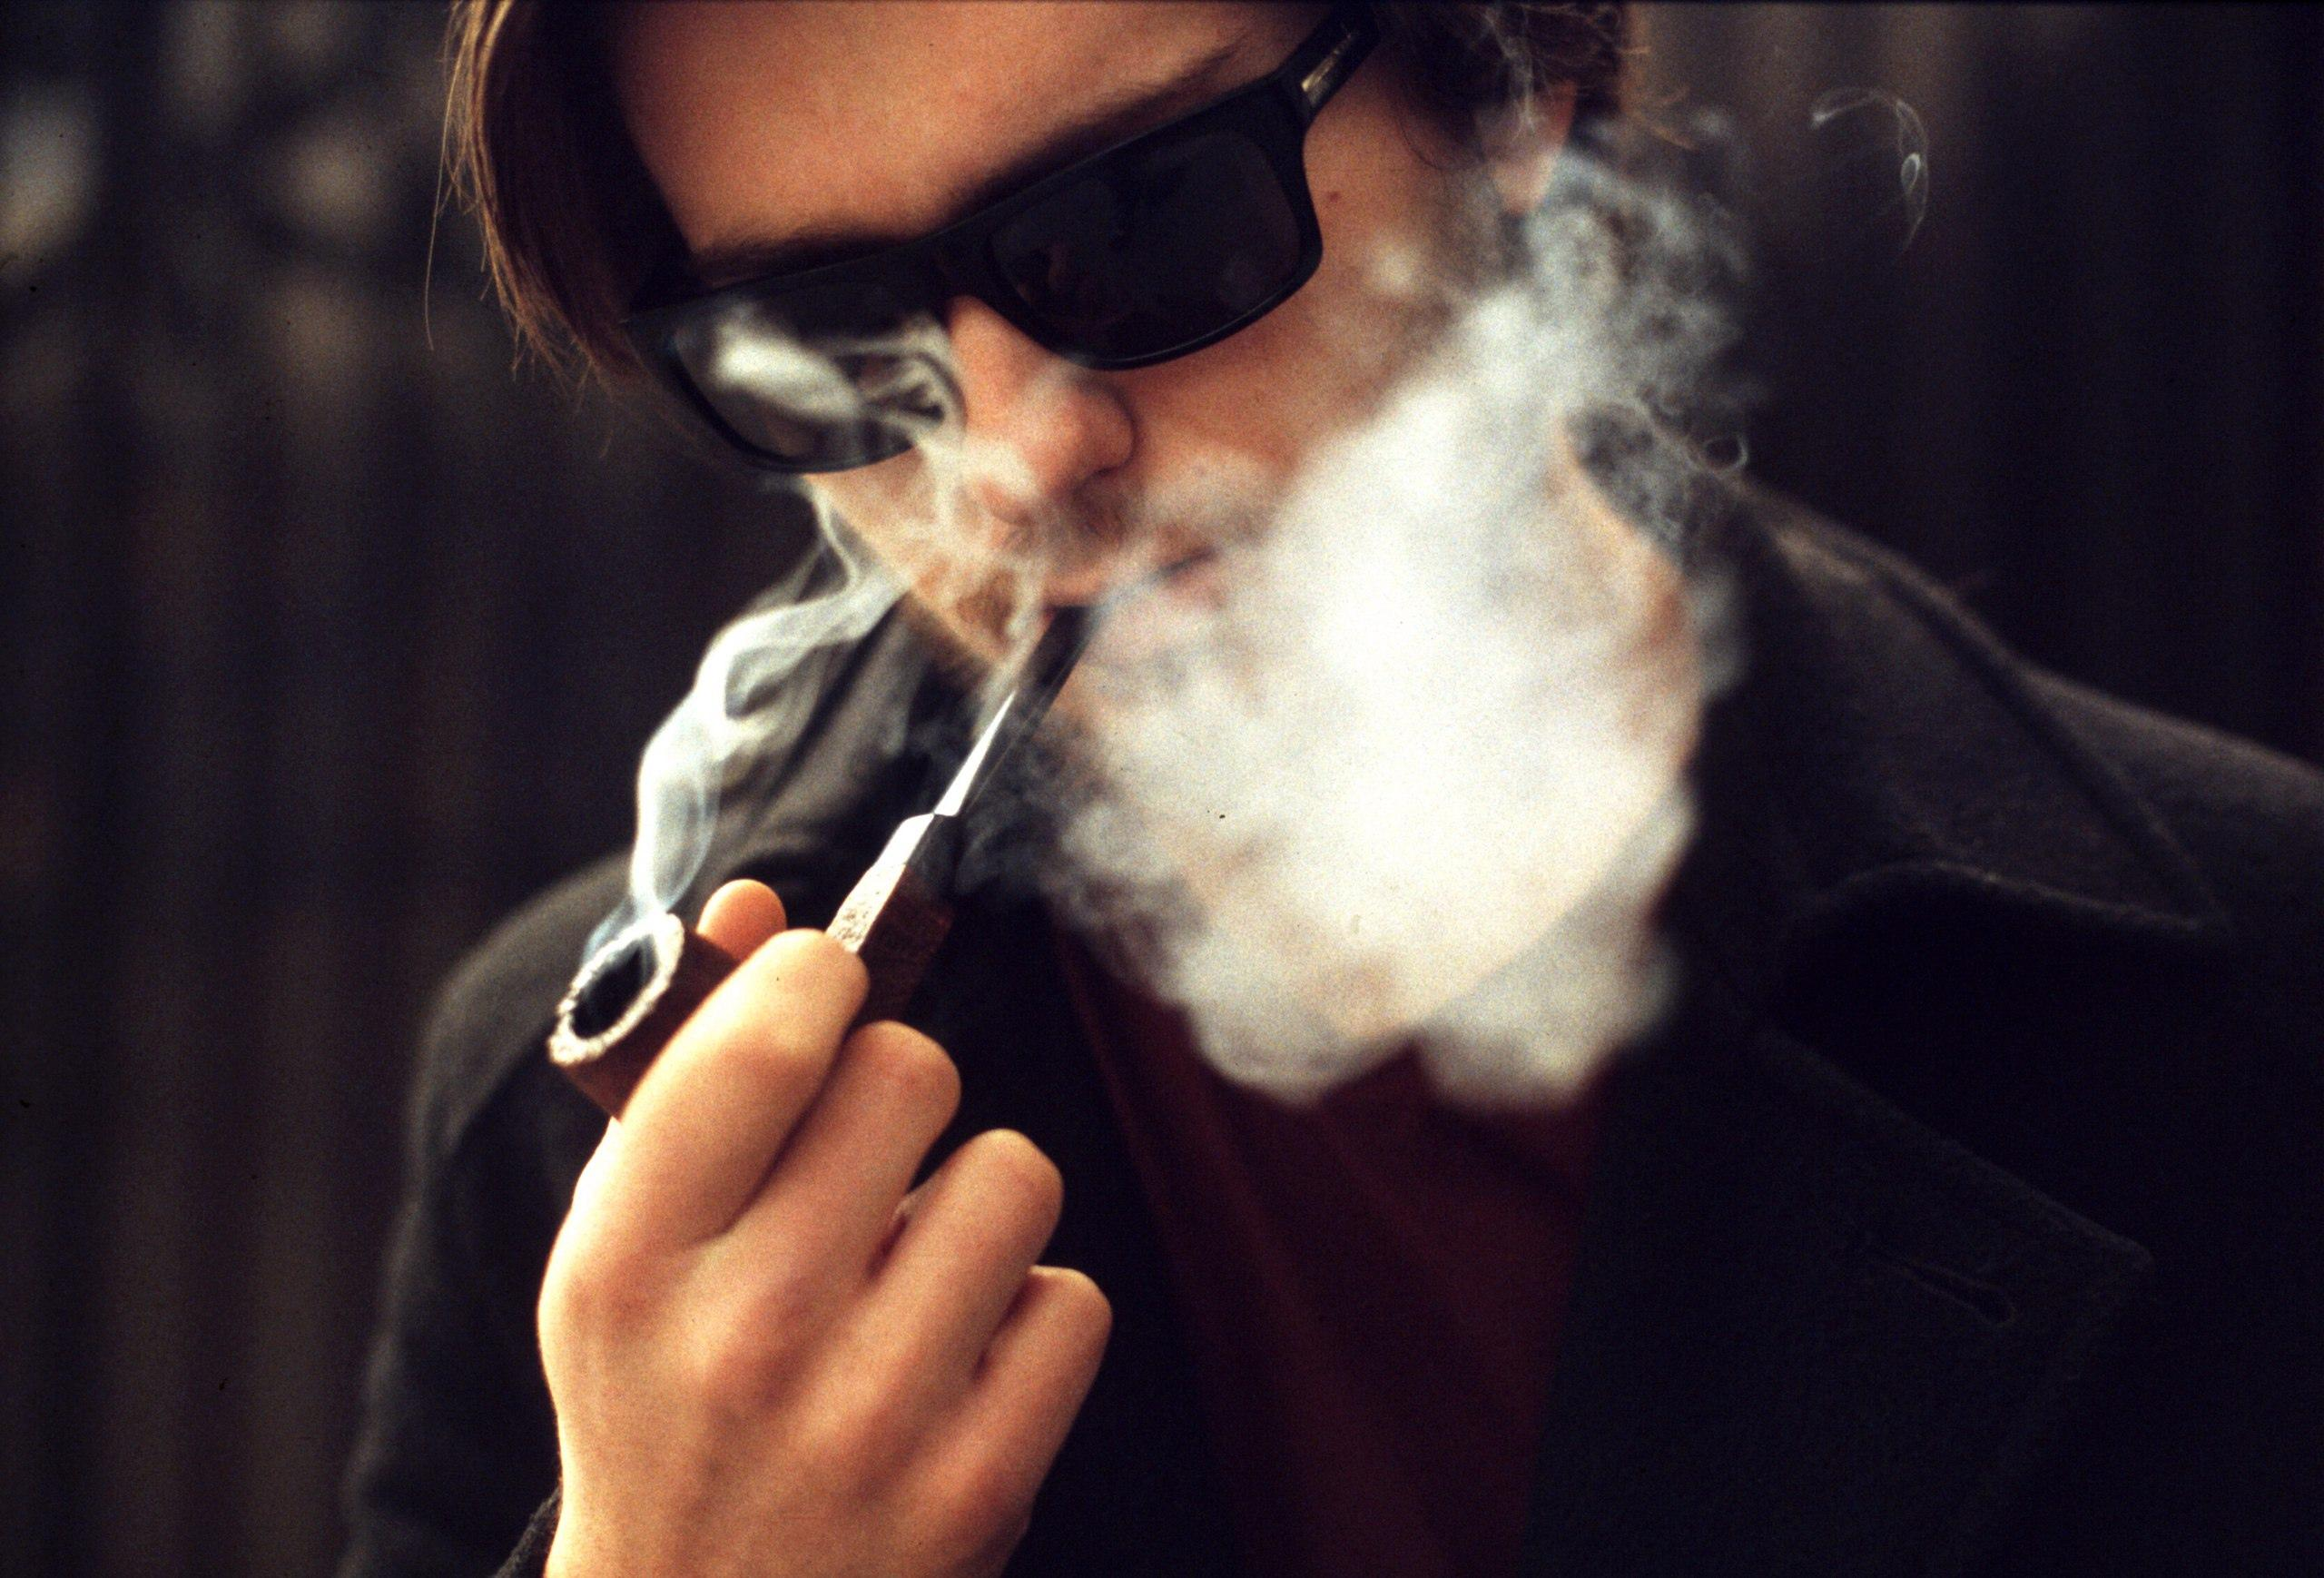trubka: (546, 602, 1122, 1115)
